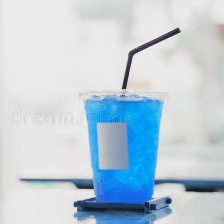drinking_straw: (114, 22, 185, 97)
glass: (74, 87, 181, 208)
